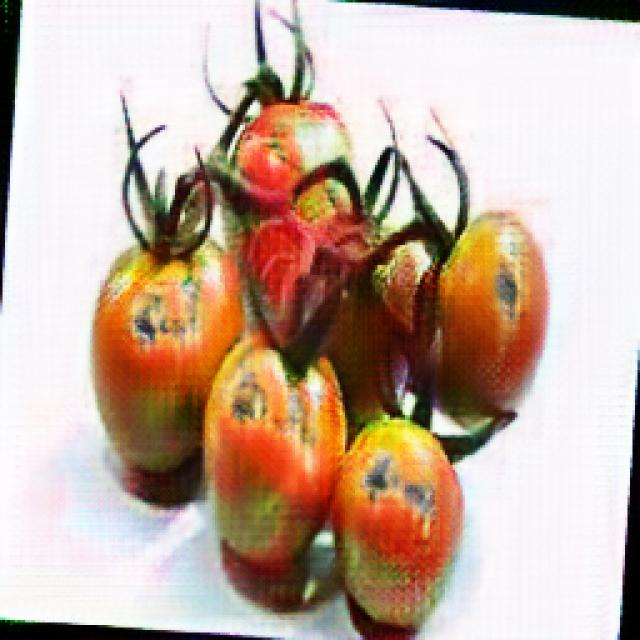overripe tomato: (99, 238, 246, 475), (207, 339, 347, 574), (333, 424, 466, 622), (426, 210, 554, 411)
